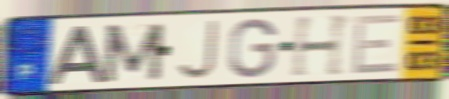A: (45, 24, 108, 86)
E: (349, 12, 403, 77)
G: (226, 17, 280, 80)
H: (289, 12, 355, 79)
J: (174, 19, 221, 82)
M: (100, 21, 167, 85)
